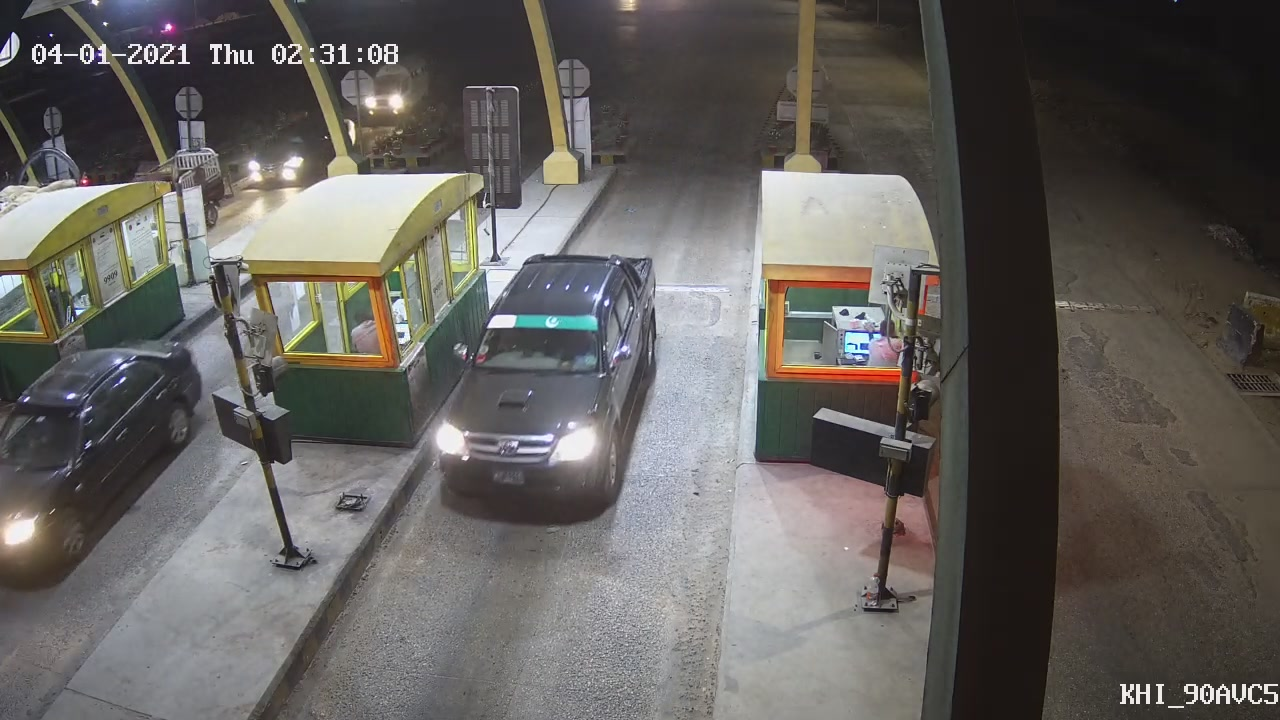F1: (416, 246, 663, 525)
